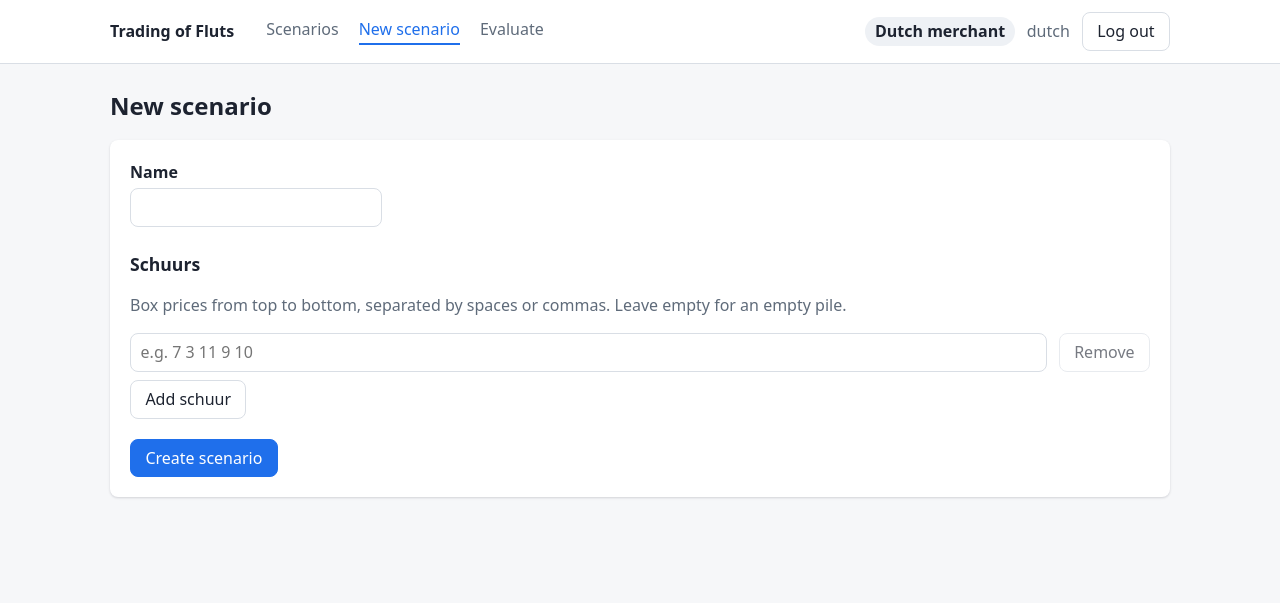
Test: NewScenarioPage › rejects prices that are not positive whole numbers before sending
Expected: the button with aria-label "Remove schuur 1" is disabled, [1059, 333, 1150, 372]
Step 1. Click the button "Add schuur" → (188, 399), box [130, 380, 246, 418]
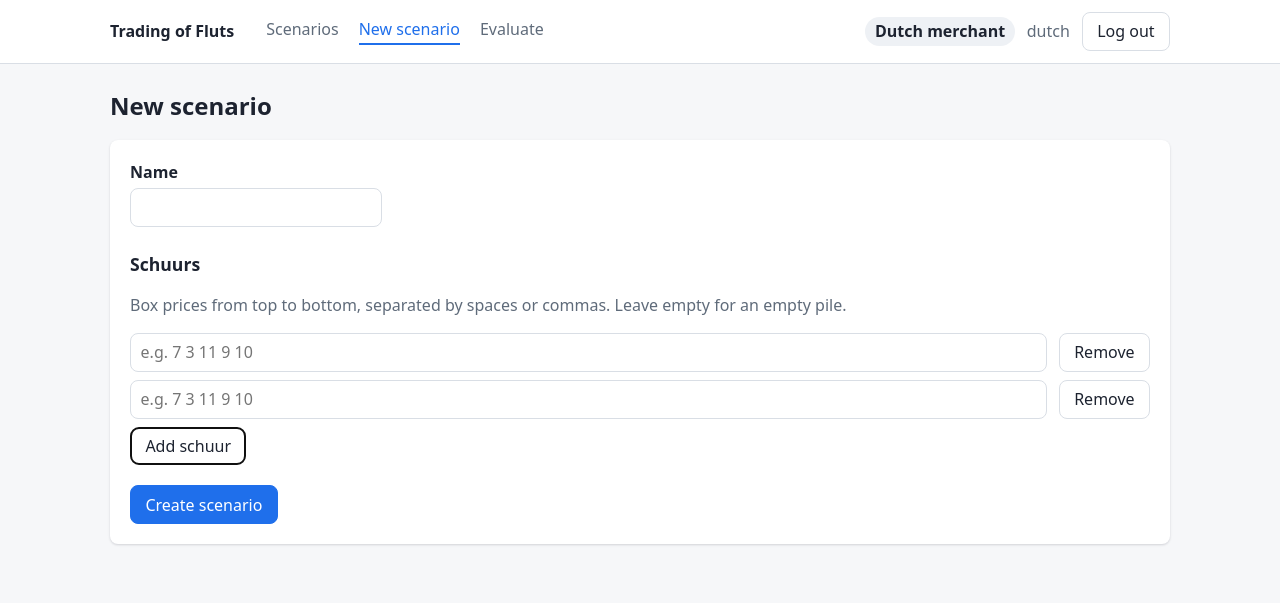
Step 2. Type "4 0" into the field named "Schuur 2 box prices" → (588, 399), box [130, 380, 1047, 418]
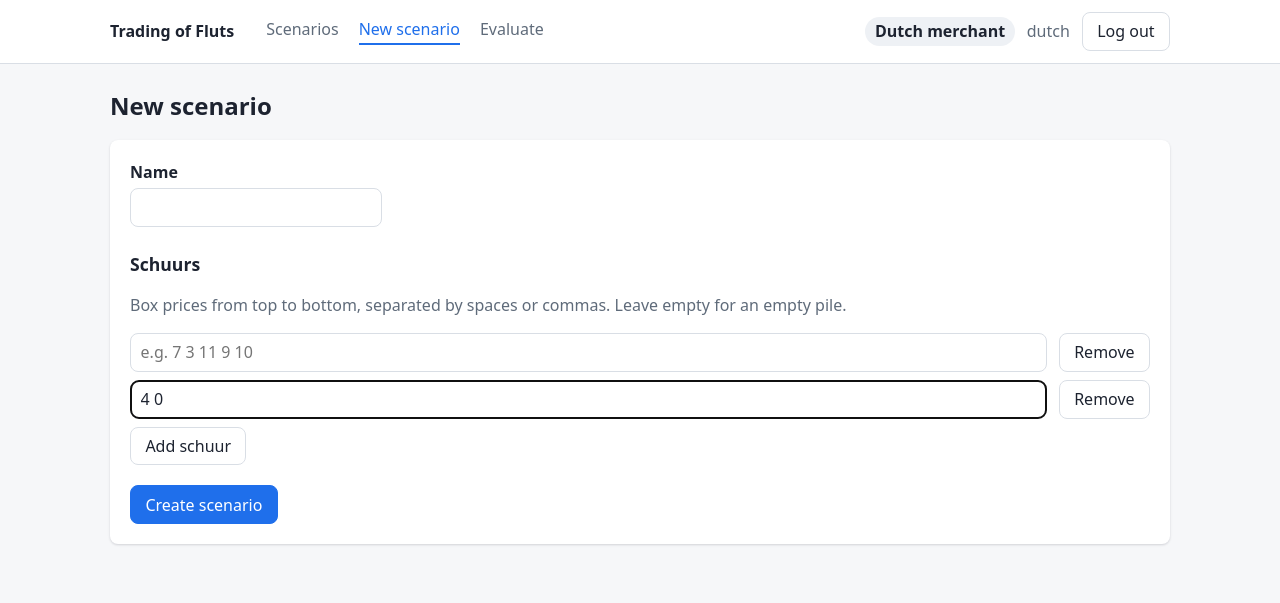
Step 3. Click the button "Create scenario" → (204, 505), box [130, 485, 278, 524]
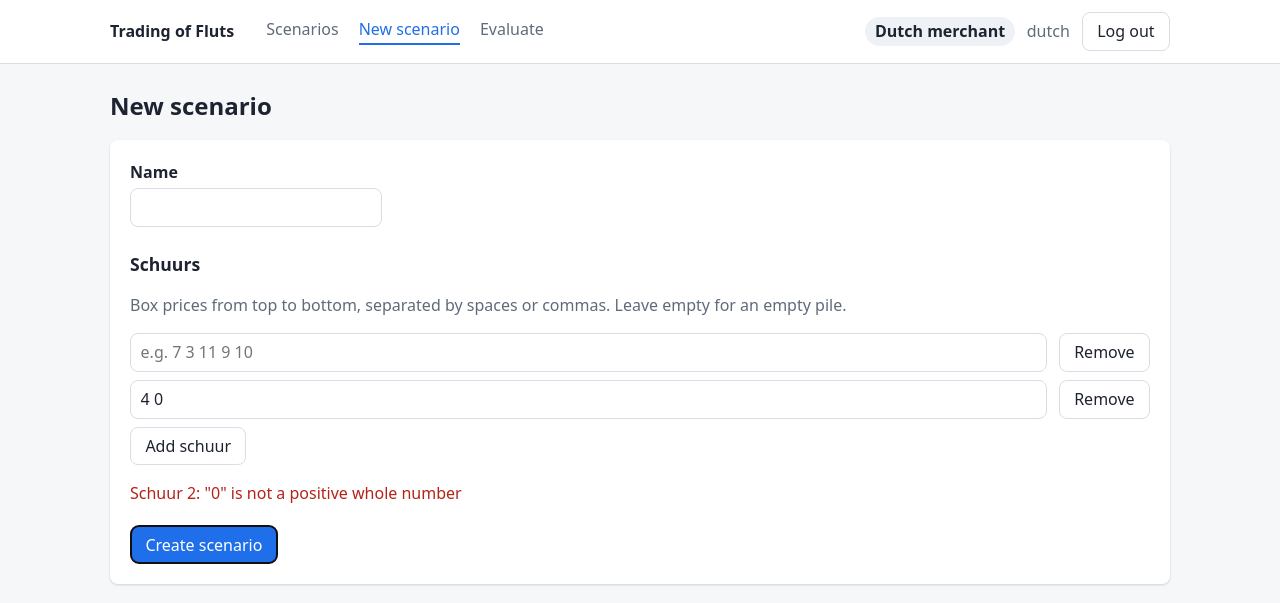
Expected: the message reads "Schuur 2: \"0\" is not a positive whole number", [130, 482, 462, 504]
